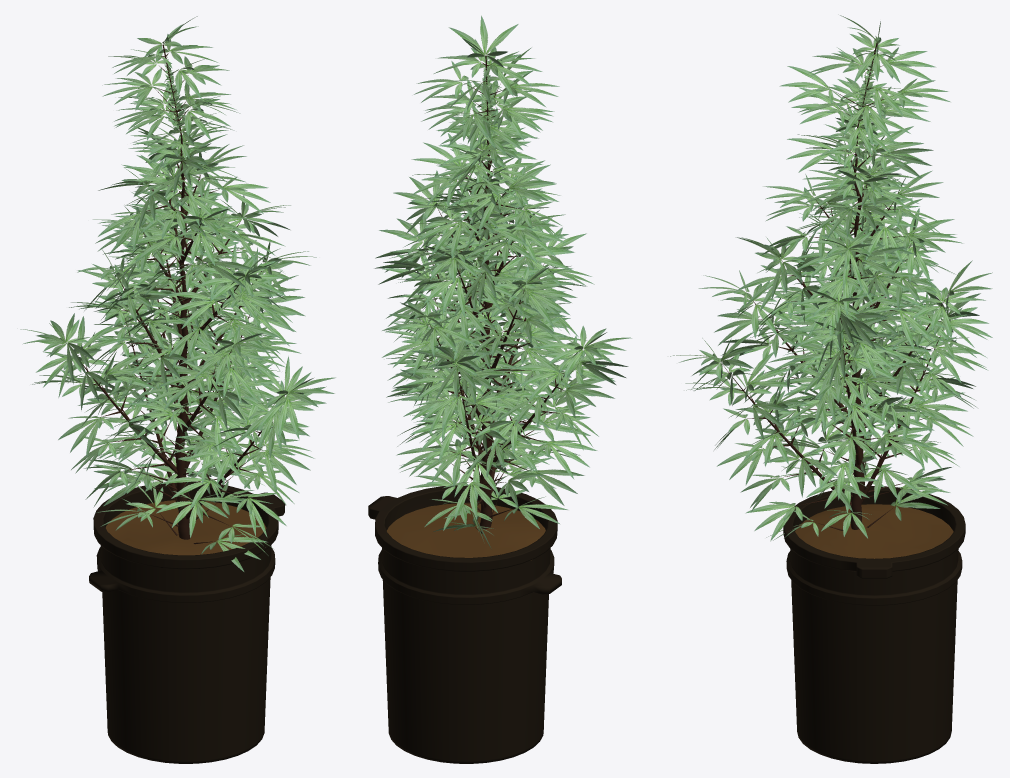
The model's file is weedplant.glb.
3 views of the same model, side by side, from view 1: azimuth 30°, elevation 25°; view 2: azimuth 150°, elevation 25°; view 3: azimuth 270°, elevation 25° (orthographic).
Parts seen in each view (by area): view 1: PlasticPot; view 2: PlasticPot; view 3: PlasticPot.
Part boxes in pixels (x1,y1,x2,y2): PlasticPot: [20, 16, 335, 763]; PlasticPot: [368, 15, 631, 763]; PlasticPot: [670, 15, 992, 763].
Size of the model in its own units: 1.71 by 4.25 by 1.81.
Materials: 4 (1 with a texture image).
